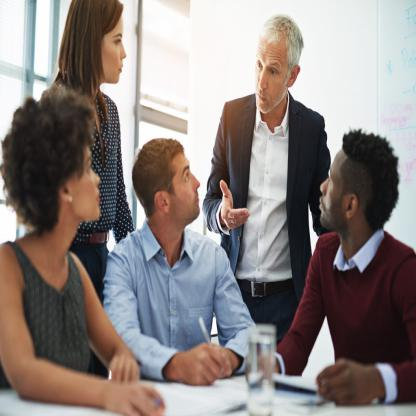face: (2, 84, 105, 249), (319, 128, 401, 243), (132, 135, 203, 240), (59, 1, 128, 91), (253, 12, 304, 118)
human: (1, 81, 168, 416), (202, 14, 338, 379), (256, 127, 416, 409), (103, 136, 267, 390), (32, 1, 137, 389)
